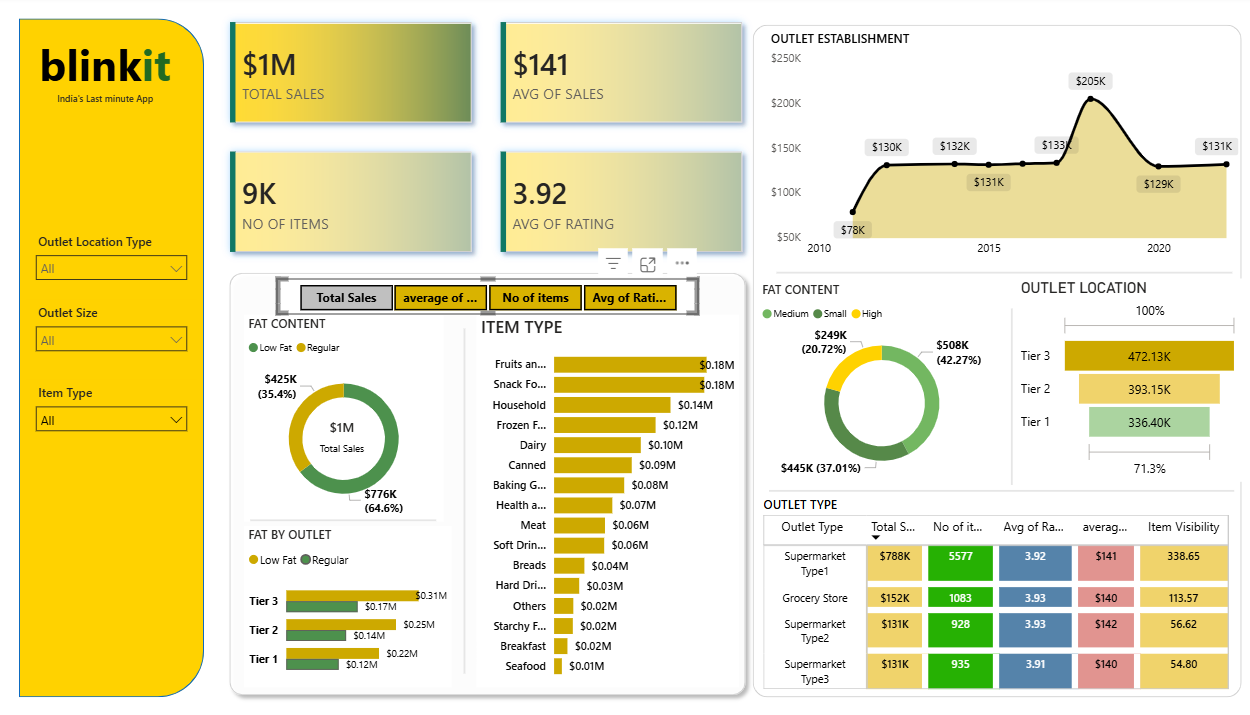

What the dashboard file says about the page in this screenshot:
{"tool":"powerbi","page":{"name":"Page 1","canvas":[1400,800],"ordinal":0},"visuals":[{"type":"shape","box":[33.2,24.9,204.6,750.5],"z":0},{"type":"textbox","box":[276.2,25.5,205.6,94.6],"z":1000},{"type":"textbox","box":[0,37.3,217,82.9],"z":2000},{"type":"textbox","box":[276.2,121.6,205.6,49.5],"z":3000},{"type":"textbox","box":[11.1,100.9,194.9,30.4],"z":4000},{"type":"cardVisual","fields":{"Data":["BlinkIT Grocery Data.Total Sales","BlinkIT Grocery Data.average of sales","BlinkIT Grocery Data.No of items","BlinkIT Grocery Data.Avg of Rating"]},"box":[237.2,0,625.8,312.2],"z":5000},{"type":"shape","box":[256.6,297.7,588.3,484.8],"z":6000},{"type":"donutChart","title":"FAT CONTENT","fields":{"Y":["BlinkIT Grocery Data.Total Sales"],"Category":["BlinkIT Grocery Data.Item Fat Content"]},"box":[282.2,353.1,220.9,229],"z":7000},{"type":"slicer","fields":{"Values":["Metrics.Metrics"]},"box":[317.7,312.2,466.3,40.9],"z":8000},{"type":"card","fields":{"Values":["BlinkIT Grocery Data.Total Sales"]},"box":[345.5,457.5,89.8,56.7],"z":9000},{"type":"barChart","title":"ITEM TYPE","fields":{"Y":["BlinkIT Grocery Data.Total Sales"],"Category":["BlinkIT Grocery Data.Item Type"]},"box":[538.5,353.1,290.4,411.7],"z":10000},{"type":"clusteredBarChart","title":"FAT BY OUTLET","fields":{"Y":["BlinkIT Grocery Data.Total Sales"],"Category":["BlinkIT Grocery Data.Outlet Location Type"],"Series":["BlinkIT Grocery Data.Item Fat Content"]},"box":[282,586,229.4,178.3],"z":11000},{"type":"shape","box":[289,574,205.9,12.3],"z":12000},{"type":"shape","box":[512.6,368.1,25.9,381.7],"z":13000},{"type":"shape","box":[844.5,31.8,540.4,743.6],"z":14000},{"type":"lineChart","title":"OUTLET ESTABLISHMENT","fields":{"Category":["BlinkIT Grocery Data.Outlet Establishment Year"],"Y":["BlinkIT Grocery Data.Total Sales"]},"box":[860,37.5,526.8,259.6],"z":15000},{"type":"shape","box":[870.5,300.2,504.3,12],"z":16000},{"type":"donutChart","title":"FAT CONTENT","fields":{"Y":["BlinkIT Grocery Data.Total Sales"],"Category":["BlinkIT Grocery Data.Outlet Size"]},"box":[849.5,315.2,274.7,225.1],"z":17000},{"type":"shape","box":[1127.1,345.2,9,195.1],"z":18000},{"type":"funnel","title":"OUTLET LOCATION","fields":{"Category":["BlinkIT Grocery Data.Outlet Location Type"],"Y":["Sum(BlinkIT Grocery Data.Sales)"]},"box":[1136.2,312.2,250.6,225.1],"z":19000},{"type":"shape","box":[863,540.3,514.8,13.5],"z":20000},{"type":"pivotTable","title":"OUTLET TYPE","fields":{"Rows":["BlinkIT Grocery Data.Outlet Type"],"Values":["BlinkIT Grocery Data.Total Sales","BlinkIT Grocery Data.No of items","BlinkIT Grocery Data.Avg of Rating","BlinkIT Grocery Data.average of sales","Sum(BlinkIT Grocery Data.Item Visibility)"]},"box":[851.4,552.9,528,222.5],"z":21000},{"type":"slicer","fields":{"Values":["BlinkIT Grocery Data.Outlet Size"]},"box":[41.5,335.9,188,78.8],"z":21002},{"type":"slicer","fields":{"Values":["BlinkIT Grocery Data.Item Type"]},"box":[41.5,424.3,188,73.3],"z":21003},{"type":"slicer","fields":{"Values":["BlinkIT Grocery Data.Outlet Location Type"]},"box":[41.5,257.1,188,78.8],"z":21004}]}

Visuals, with their boxes in screenshot pixels (x1, y1, x2, y2), scaled from the page's 1400x800 canvas onto the 1250x715 screenshot:
shape: <bbox>30, 22, 212, 693</bbox>
textbox: <bbox>247, 23, 430, 107</bbox>
textbox: <bbox>0, 33, 194, 107</bbox>
textbox: <bbox>247, 109, 430, 153</bbox>
textbox: <bbox>10, 90, 184, 117</bbox>
cardVisual - BlinkIT Grocery Data.Total Sales x BlinkIT Grocery Data.average of sales: <bbox>212, 0, 771, 279</bbox>
shape: <bbox>229, 266, 754, 699</bbox>
"FAT CONTENT" donutChart: <bbox>252, 316, 449, 520</bbox>
slicer - Metrics.Metrics: <bbox>284, 279, 700, 316</bbox>
card - BlinkIT Grocery Data.Total Sales: <bbox>308, 409, 389, 460</bbox>
"ITEM TYPE" barChart: <bbox>481, 316, 740, 684</bbox>
"FAT BY OUTLET" clusteredBarChart: <bbox>252, 524, 457, 683</bbox>
shape: <bbox>258, 513, 442, 524</bbox>
shape: <bbox>458, 329, 481, 670</bbox>
shape: <bbox>754, 28, 1237, 693</bbox>
"OUTLET ESTABLISHMENT" lineChart: <bbox>768, 34, 1238, 266</bbox>
shape: <bbox>777, 268, 1228, 279</bbox>
"FAT CONTENT" donutChart: <bbox>758, 282, 1004, 483</bbox>
shape: <bbox>1006, 309, 1014, 483</bbox>
"OUTLET LOCATION" funnel: <bbox>1014, 279, 1238, 480</bbox>
shape: <bbox>771, 483, 1230, 495</bbox>
"OUTLET TYPE" pivotTable: <bbox>760, 494, 1232, 693</bbox>
slicer - BlinkIT Grocery Data.Outlet Size: <bbox>37, 300, 205, 371</bbox>
slicer - BlinkIT Grocery Data.Item Type: <bbox>37, 379, 205, 445</bbox>
slicer - BlinkIT Grocery Data.Outlet Location Type: <bbox>37, 230, 205, 300</bbox>
